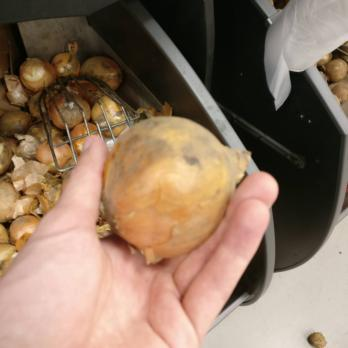Onion: (104, 116, 244, 263), (0, 55, 129, 128), (1, 132, 45, 232)
